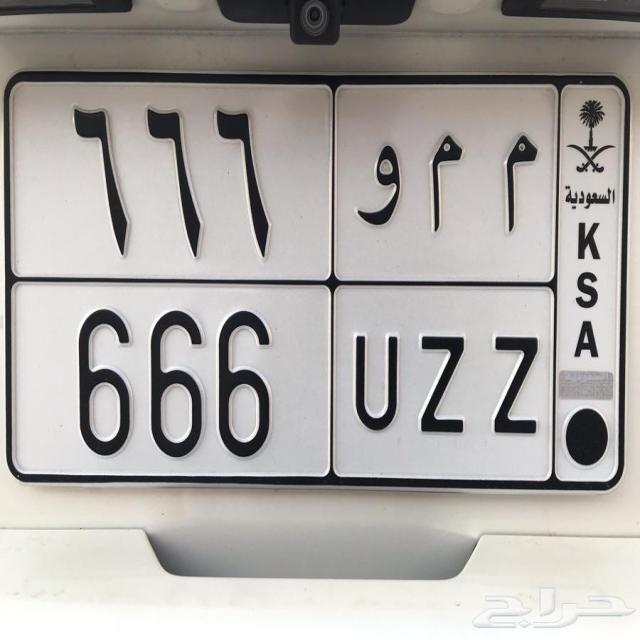license_plate: (5, 78, 628, 492), (6, 272, 559, 494)
